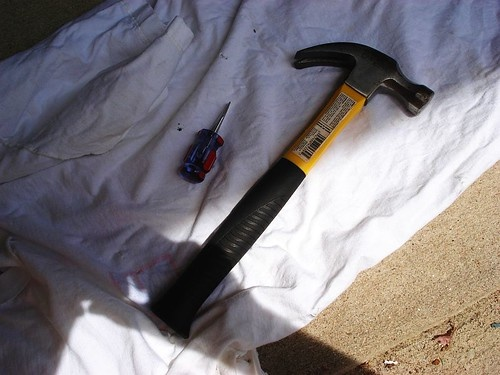hammer: (145, 38, 432, 350)
